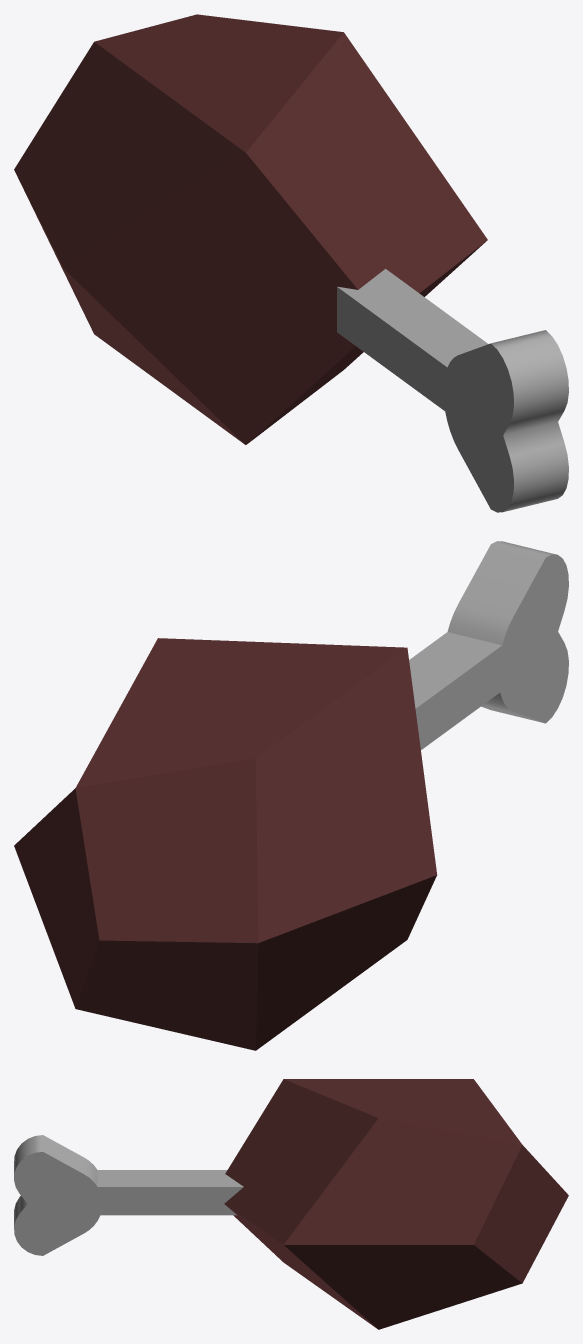
Rendered from Meat.fbx.
The picture shows the model from 3 angles, top to bottom: view 1: azimuth 30°, elevation 25°; view 2: azimuth 150°, elevation 25°; view 3: azimuth 270°, elevation 25°; orthographic projection. The views are drawn at different scales.
Visible parts, largest first — view 1: pCube5; view 2: pCube5; view 3: pCube5.
Boxes of the visible parts, bbox=[...] form: pCube5: bbox=[14, 14, 568, 512]; pCube5: bbox=[14, 541, 568, 1050]; pCube5: bbox=[14, 1079, 568, 1329].
Size of the model in its own units: 1.87 by 1.73 by 4.11.
